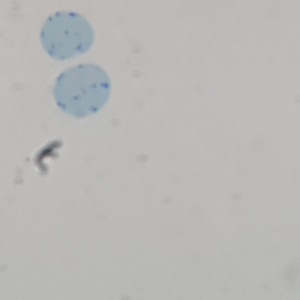aggregate reticulocyte: (51, 62, 113, 120), (38, 9, 97, 62)
